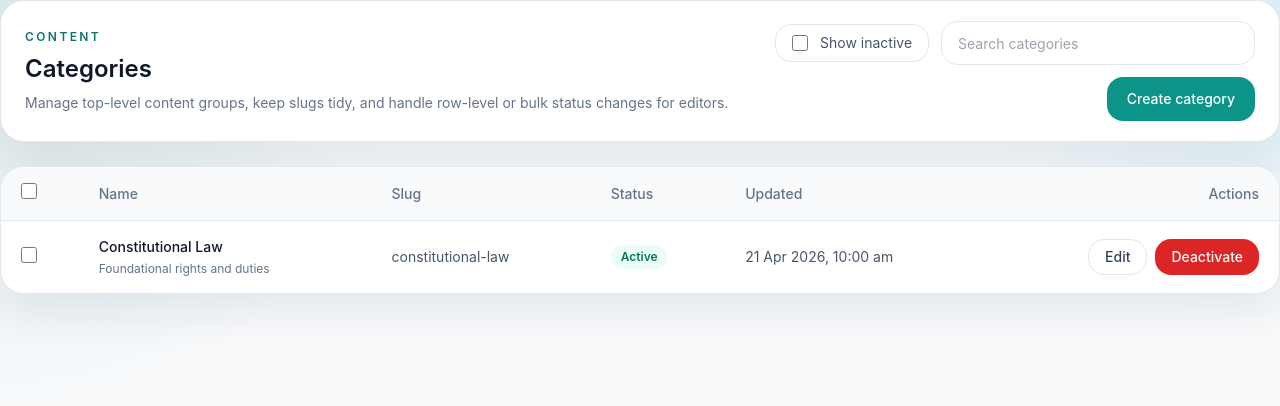
Scenario: CategoriesPage › lists categories, searches locally, and toggles inactive visibility
The width and height of the screenshot is (1280, 406).
Expected: the text "Constitutional Law" is shown, x1=99 y1=238 x2=223 y2=255
Expected: the text "Archived Case Law" is not shown
Step 1. Type "rights" into the field with placeholder "Search categories" → (1098, 43), box x1=941 y1=21 x2=1255 y2=65
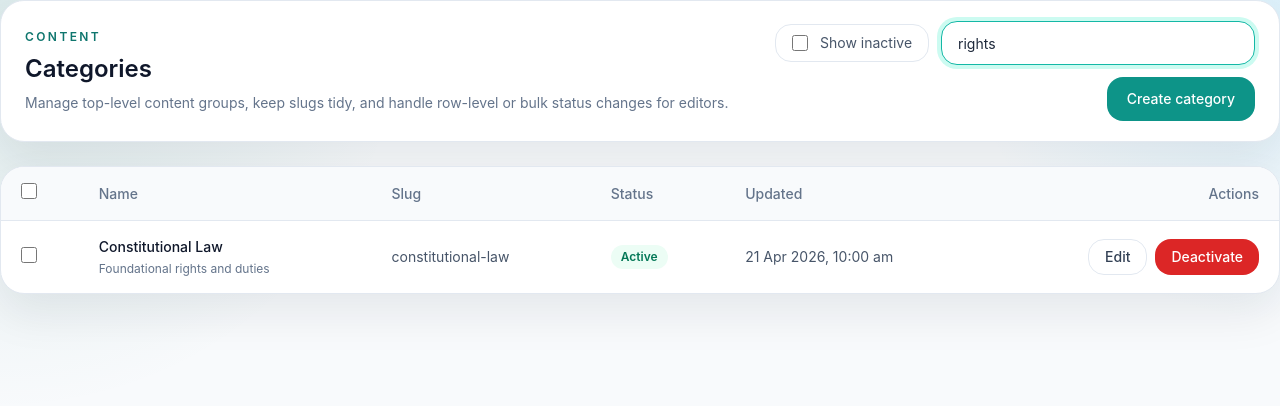
Expected: the text "Constitutional Law" is shown, x1=99 y1=238 x2=223 y2=255
Step 2. Clear the field with placeholder "Search categories" → (1098, 43), box x1=941 y1=21 x2=1255 y2=65
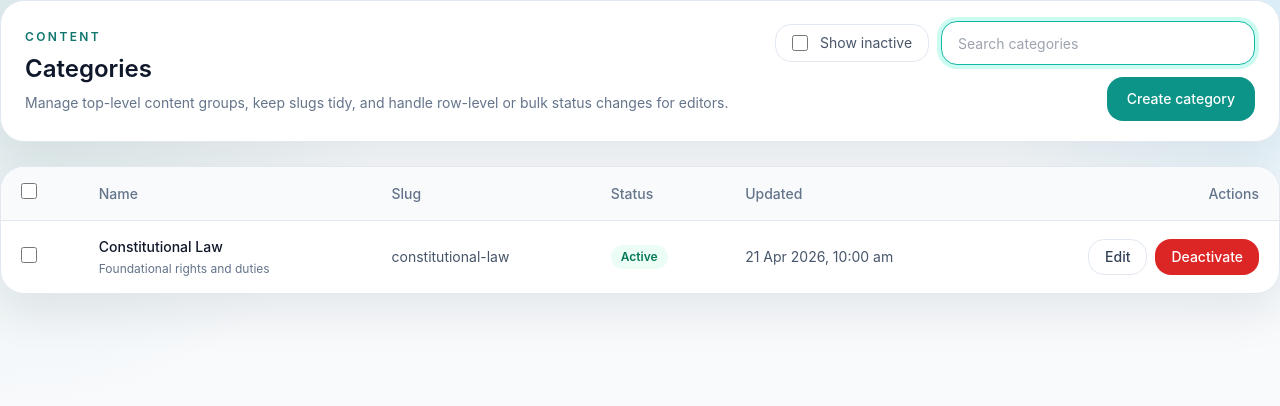
Step 3. Click the checkbox labelled "Show inactive" → (800, 43), box x1=792 y1=35 x2=808 y2=51
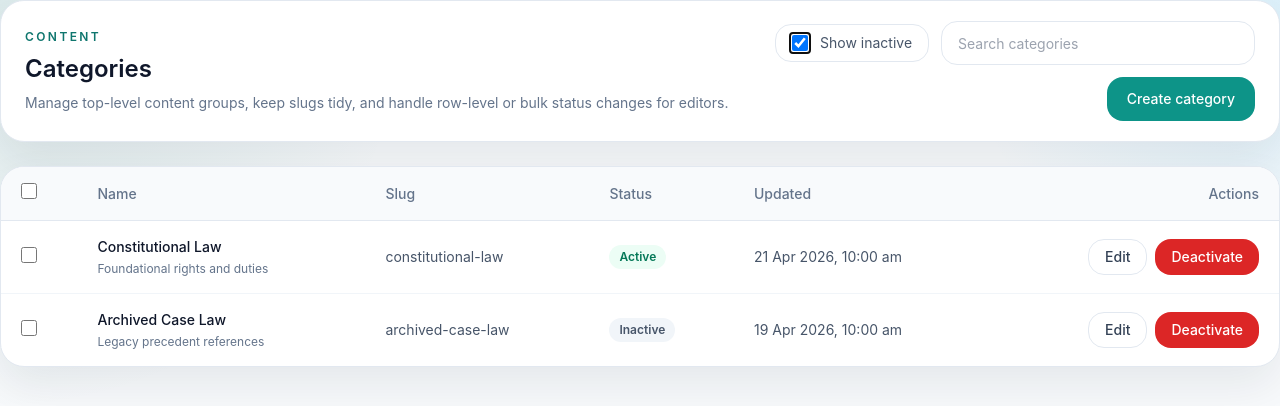
Expected: the text "Archived Case Law" is shown, x1=98 y1=311 x2=226 y2=328
Step 4. Type "legacy" into the field with placeholder "Search categories" → (1098, 43), box x1=941 y1=21 x2=1255 y2=65
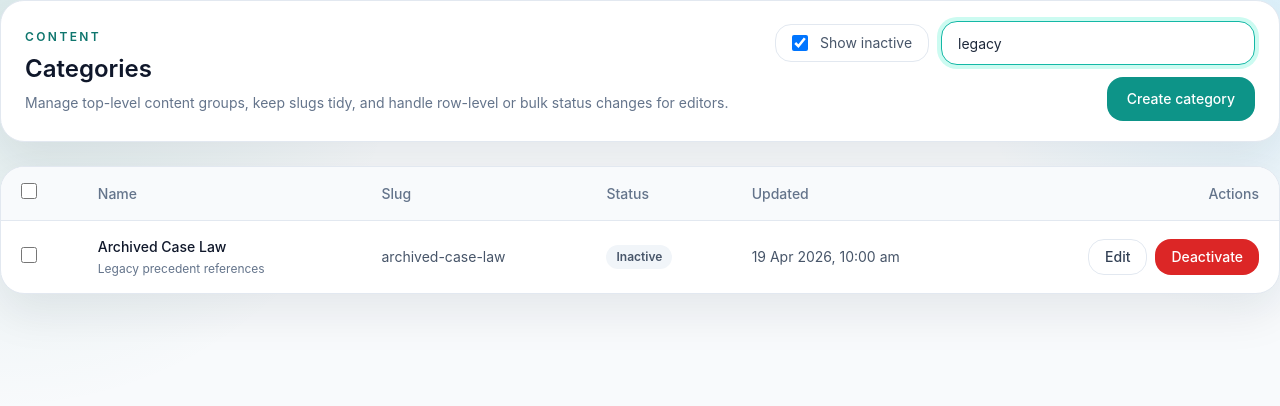
Expected: the text "Archived Case Law" is shown, x1=98 y1=238 x2=226 y2=255
Expected: the text "Constitutional Law" is gone
